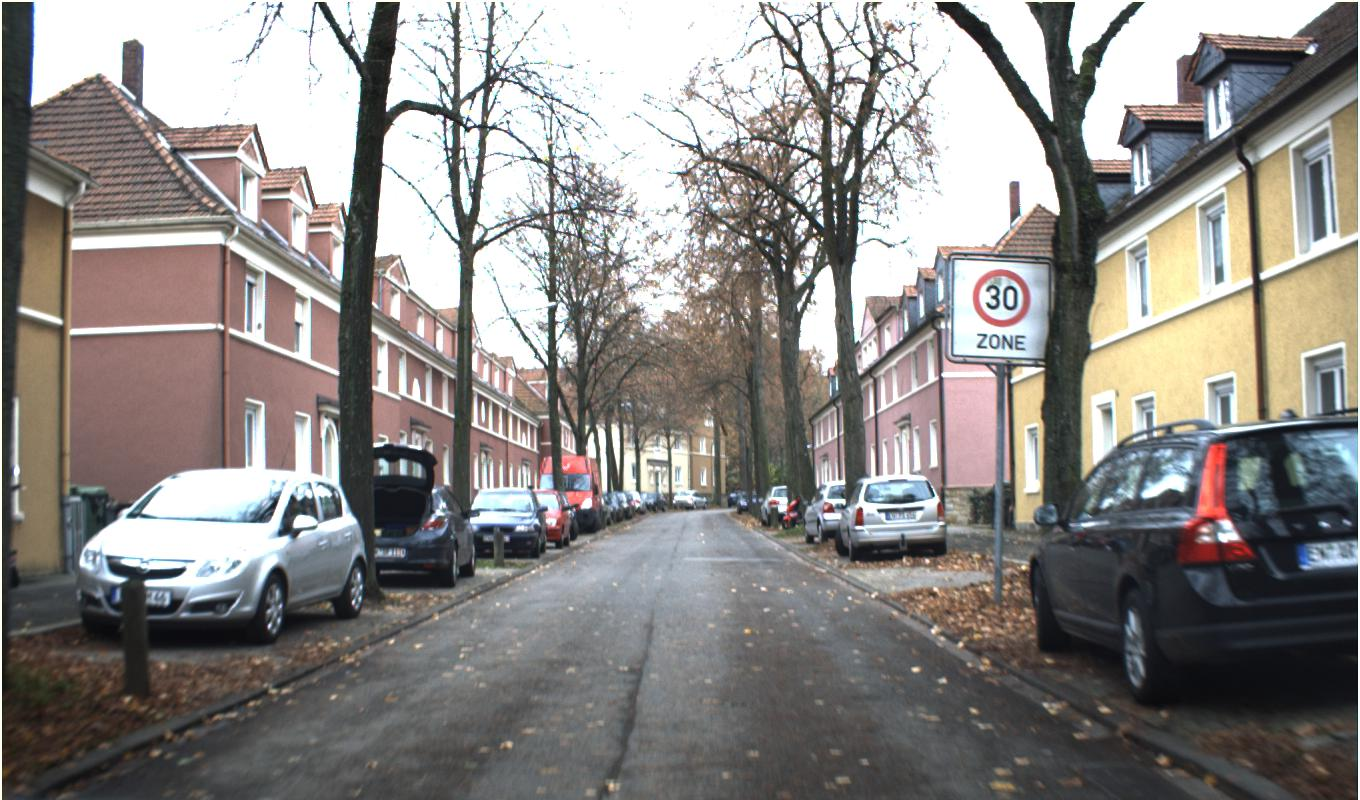prohibitory: (971, 267, 1031, 328)
